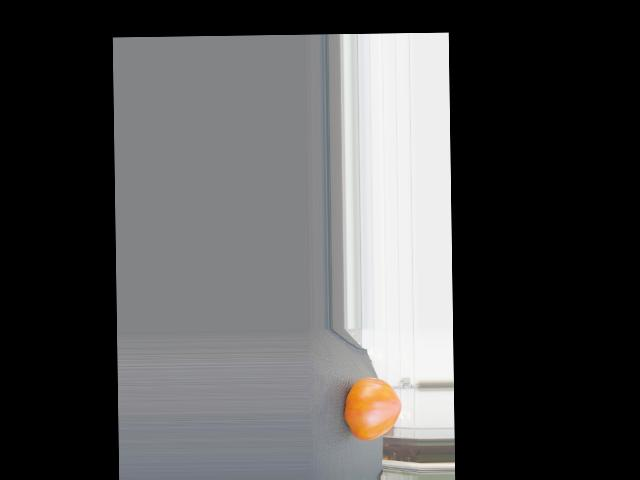tomato: (344, 377, 402, 440)
